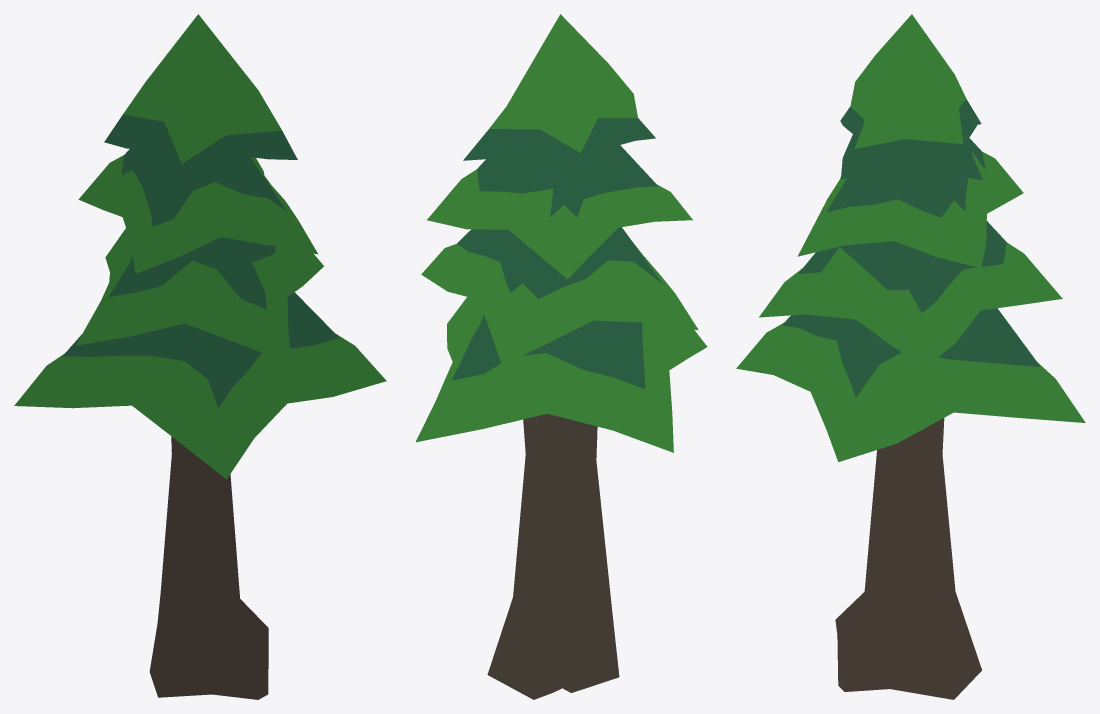
File: pine_medium_01.dae
The picture shows the model from 3 angles, left to right: view 1: azimuth 30°, elevation 25°; view 2: azimuth 150°, elevation 25°; view 3: azimuth 270°, elevation 25°; orthographic projection.
Visible parts, largest first — view 1: pine_medium_01-0; view 2: pine_medium_01-0; view 3: pine_medium_01-0.
Part boxes in pixels (bbox=[...]): pine_medium_01-0: bbox=[14, 14, 386, 699]; pine_medium_01-0: bbox=[416, 14, 707, 699]; pine_medium_01-0: bbox=[736, 14, 1085, 699].
Size of the model in its own units: 4.84 by 10.22 by 4.9.
